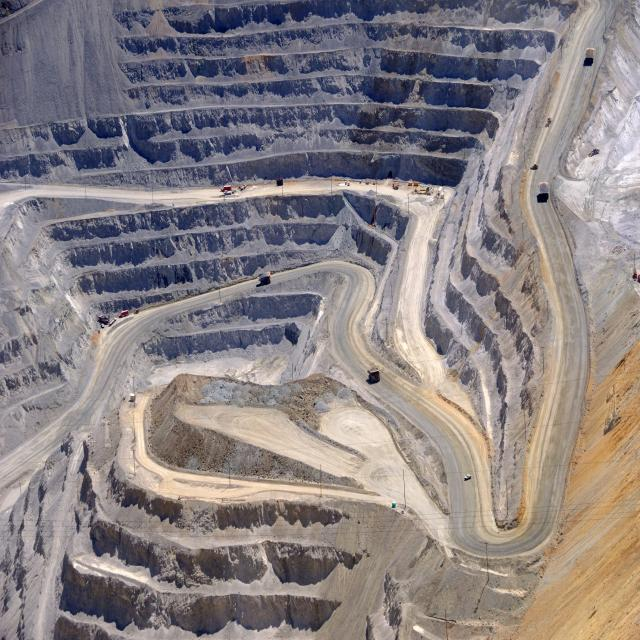dump_truck: (251, 264, 278, 292), (536, 174, 552, 206), (582, 42, 599, 72), (366, 359, 381, 387)
